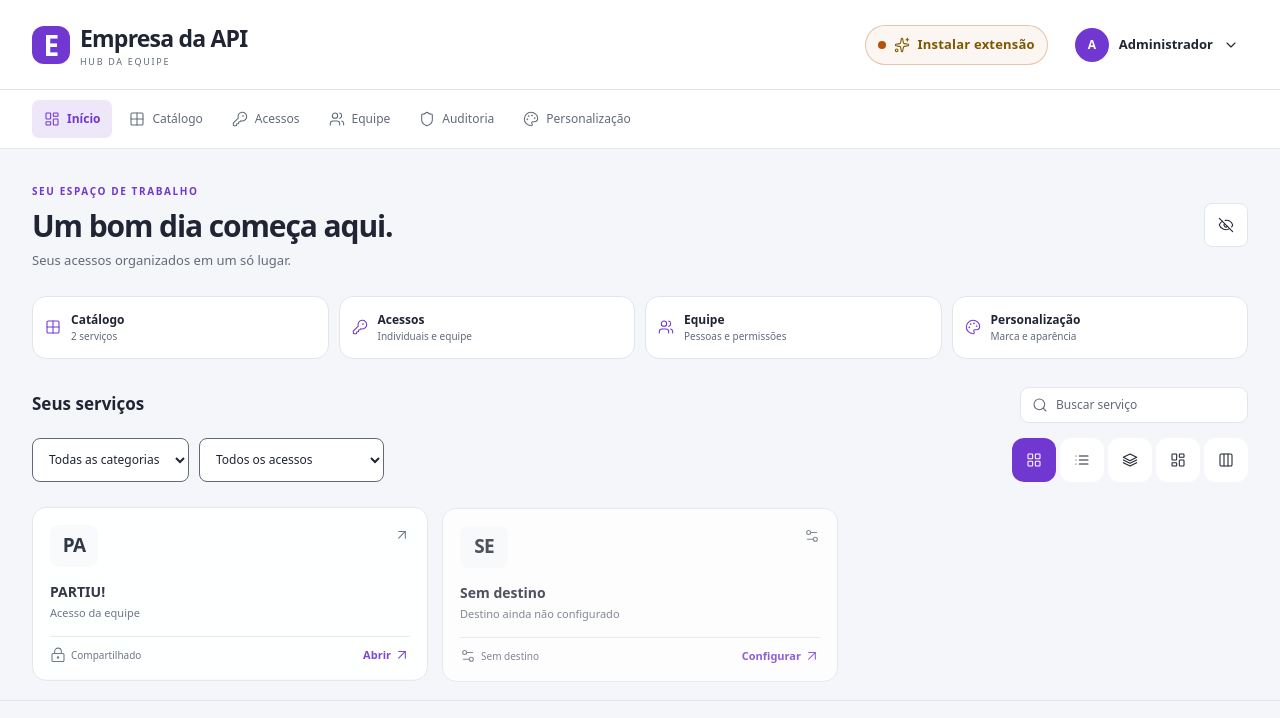
Test: API backed customization › lets an admin create an individual catalog card
The image size is (1280, 718).
Expected: the text "Empresa da API" is shown, top-left (80, 22), bottom-right (247, 54)
Click the button "Catálogo". click: (166, 119)
box: top-left (118, 100), bottom-right (215, 138)
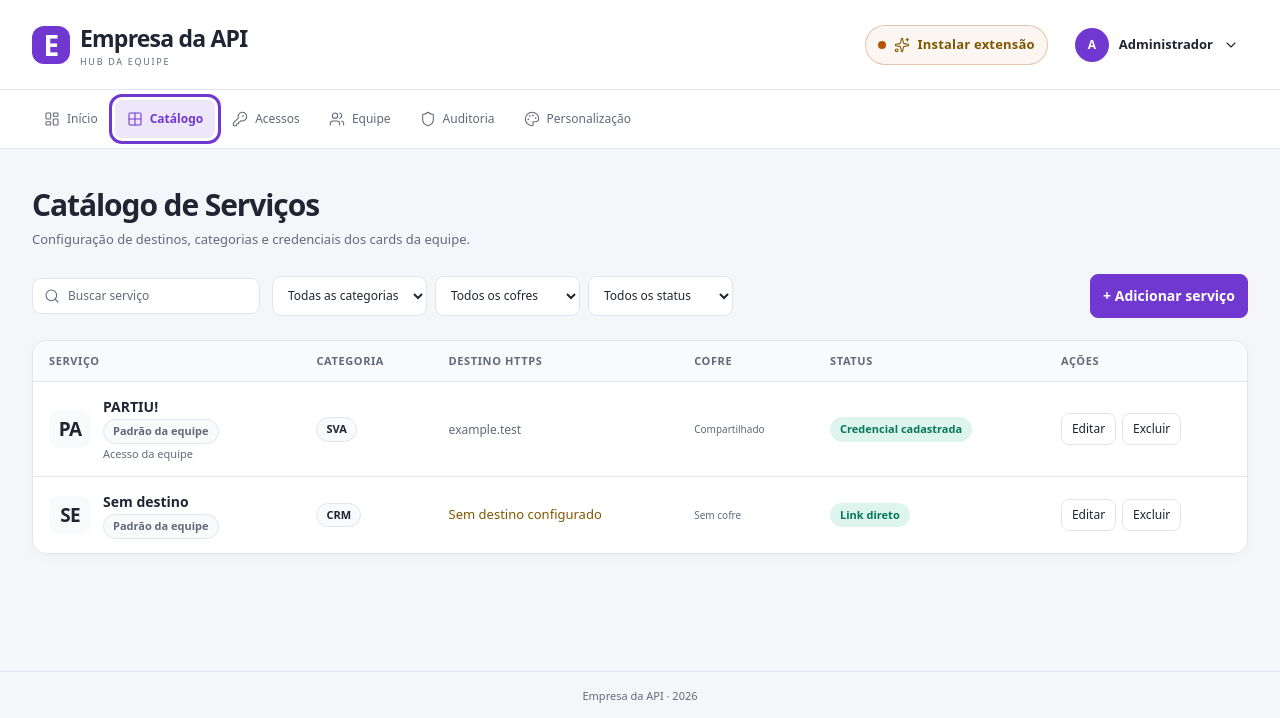
Click the button "+ Adicionar serviço". click: (1169, 296)
box: top-left (1090, 274), bottom-right (1248, 318)
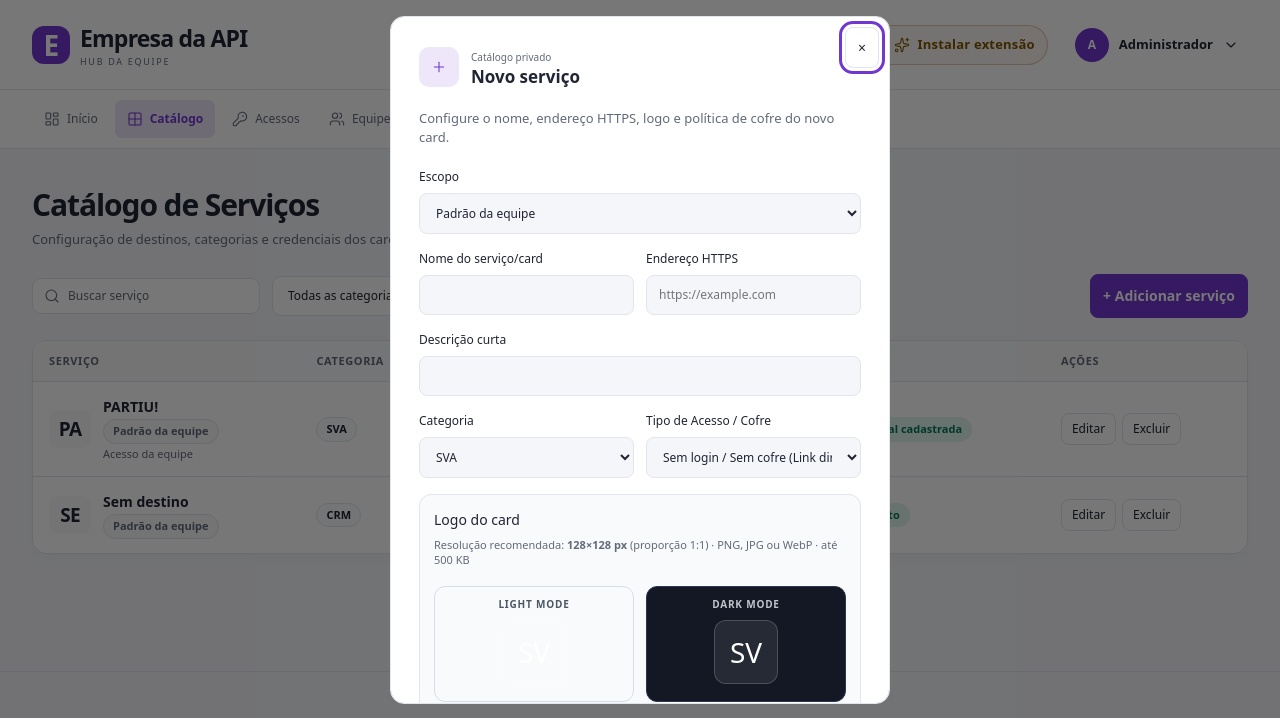
Type "SVA Atendimento" into the field labelled "Nome do serviço/card". click: (526, 295)
box: top-left (419, 275), bottom-right (634, 315)
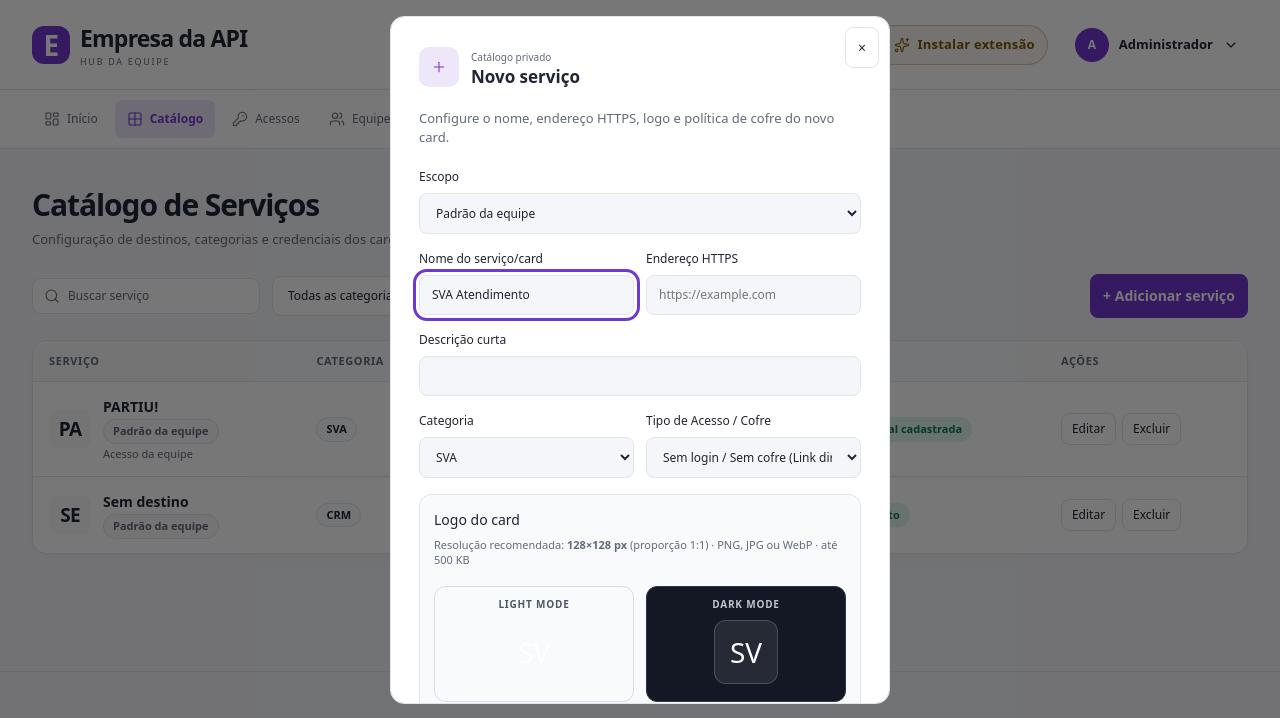
Select "Cofre Individual (por atendente)" in the dropdown labelled "Tipo de Acesso / Cofre". click: (754, 457)
box: top-left (646, 437), bottom-right (861, 478)
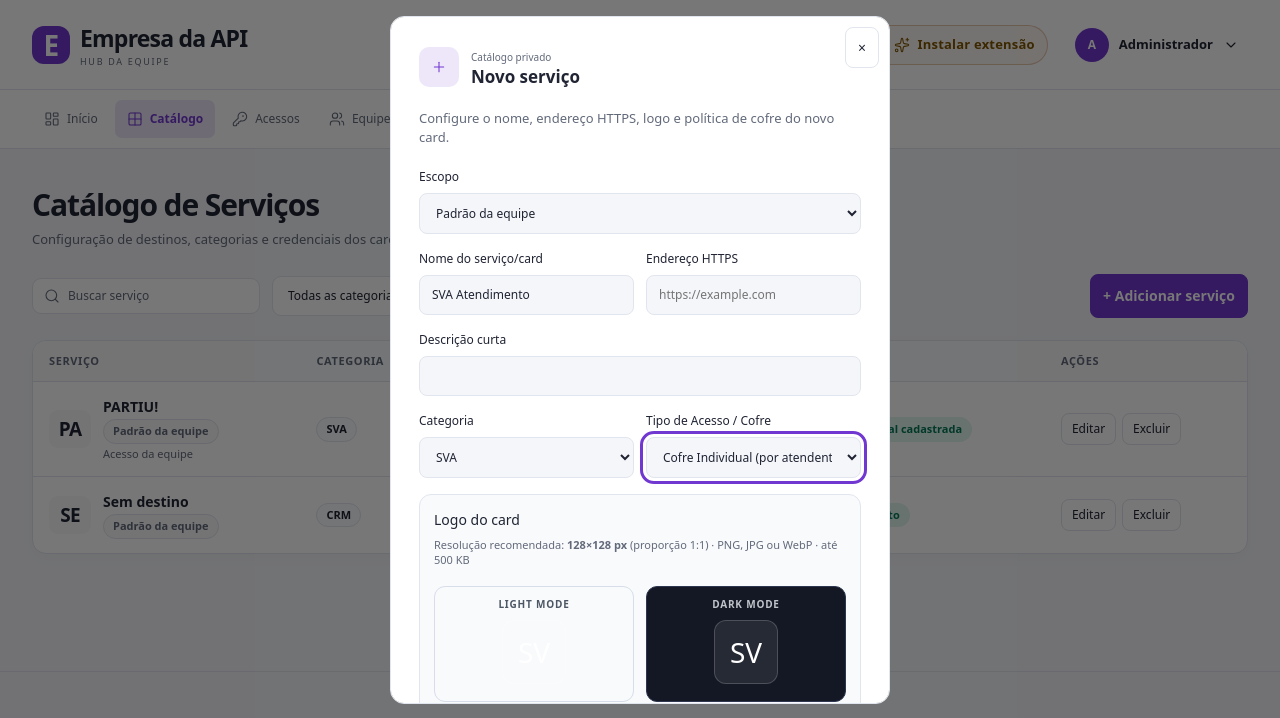
Select "Sistemas" in the dropdown labelled "Categoria". click: (526, 457)
box: top-left (419, 437), bottom-right (634, 478)
(page scrolled)
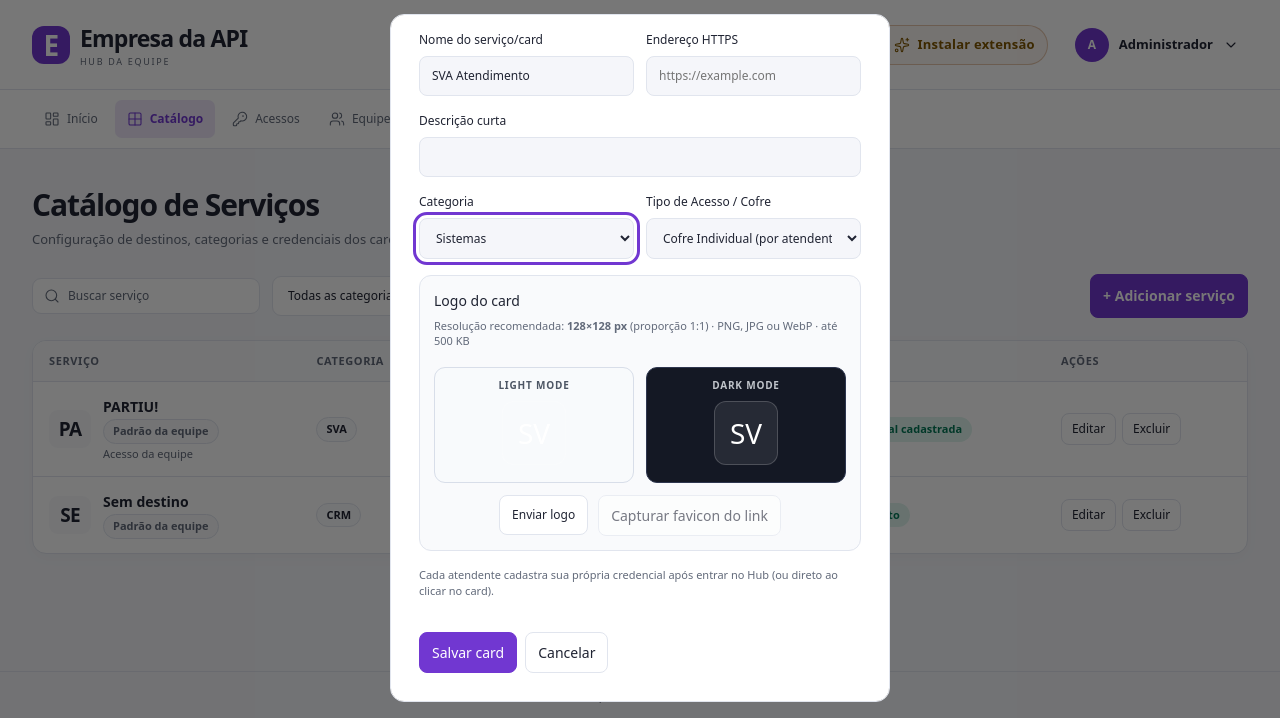
Click the button "Salvar card". click: (468, 652)
box: top-left (419, 632), bottom-right (517, 673)
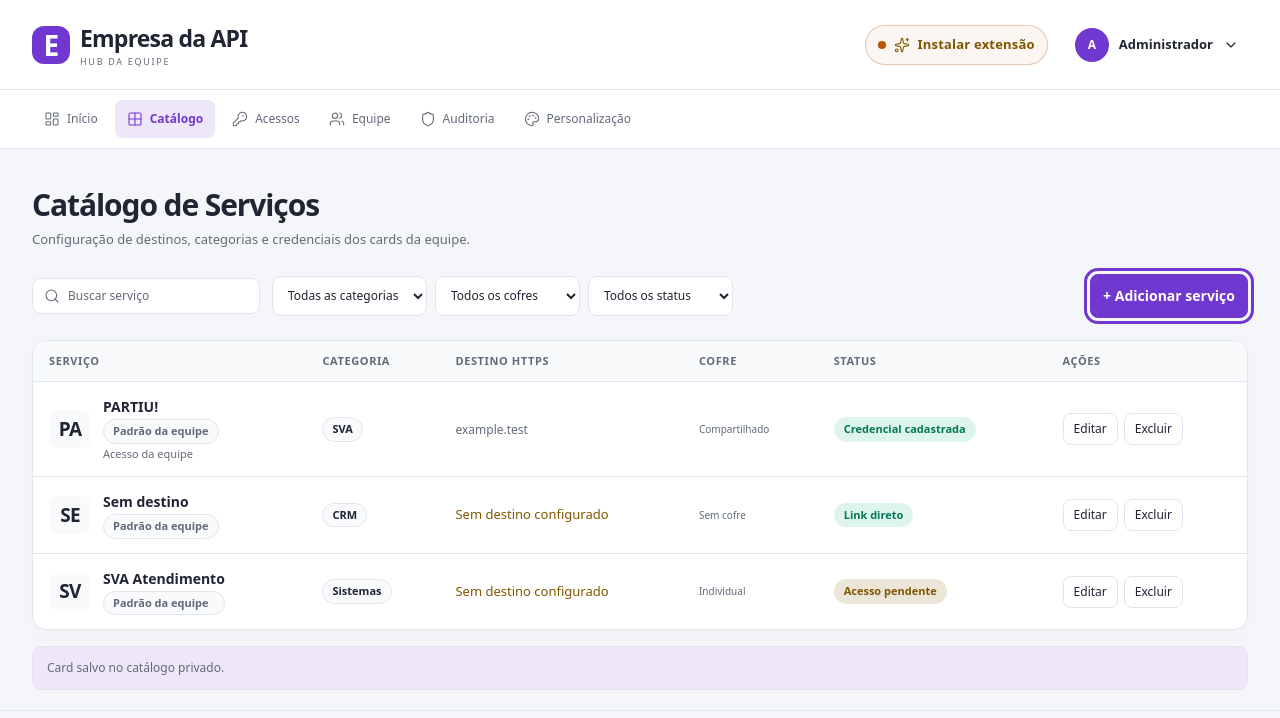
Now the text "SVA Atendimento" is shown, box top-left (103, 568), bottom-right (225, 589)
Now the text "Card salvo no catálogo privado." is shown, box top-left (32, 646), bottom-right (1248, 690)
